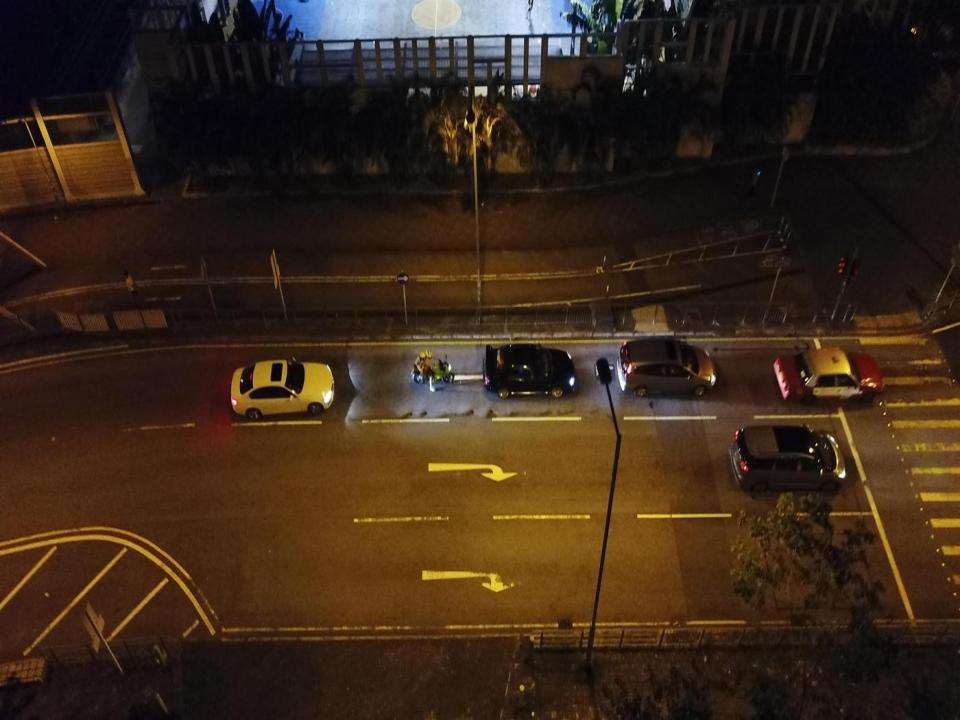car: (229, 356, 335, 422), (774, 346, 884, 406), (482, 343, 576, 399)
van: (729, 423, 846, 493), (616, 338, 716, 398)
